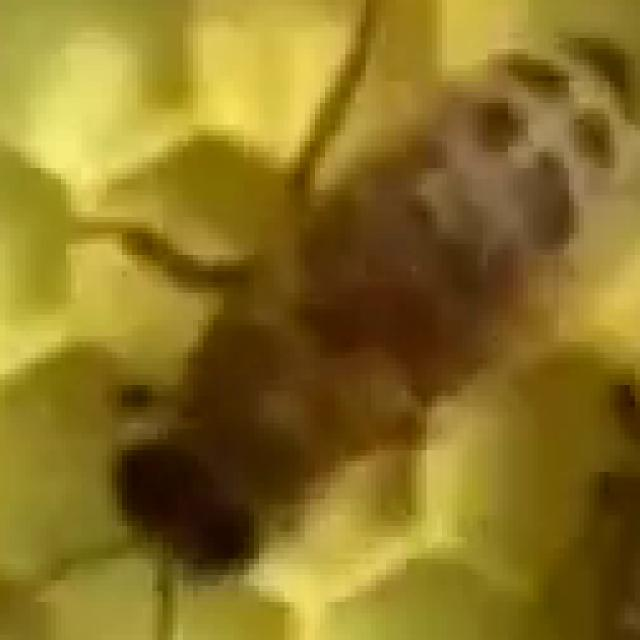honeybee: (65, 66, 587, 544)
